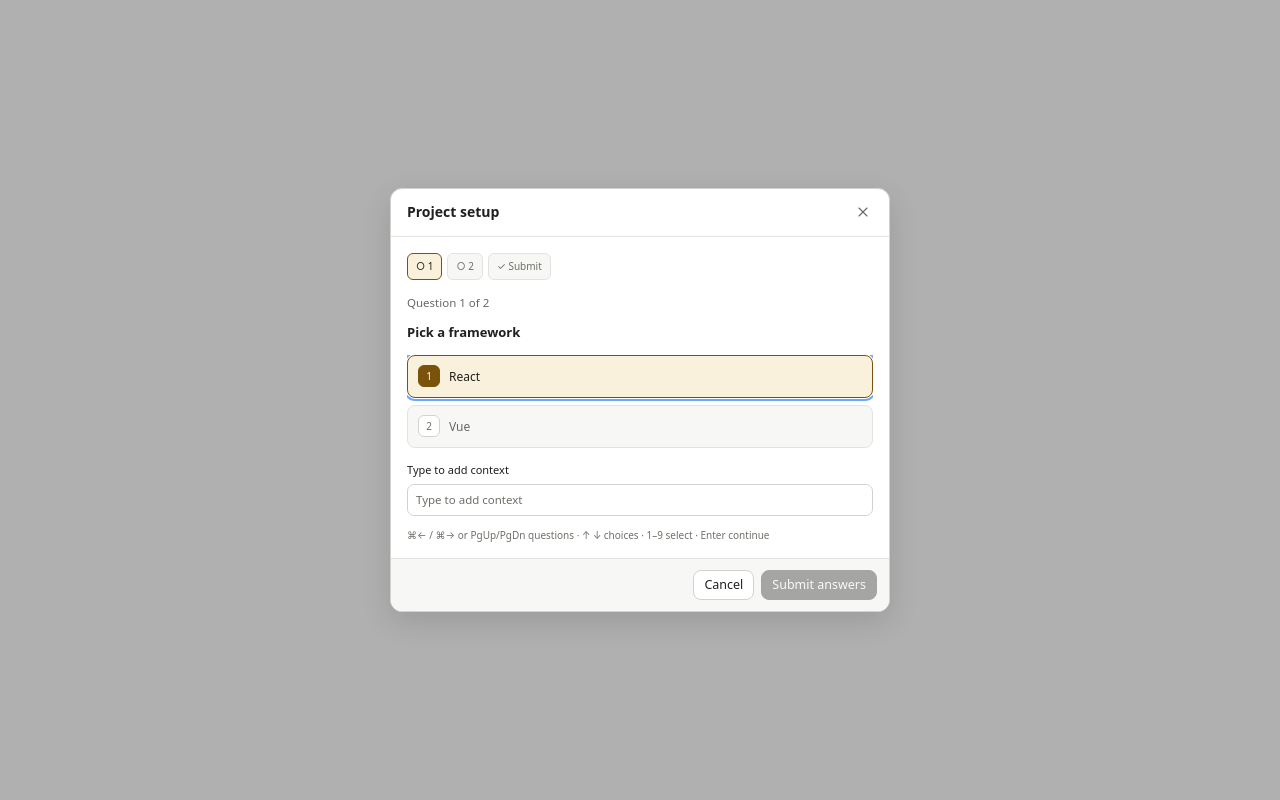
Scenario: extension questionnaire keyboard handling › keeps navigation focused after the final option auto-advances to the submit summary
Click the option "1 React" at (465, 376), box x1=407 y1=355 x2=873 y2=398
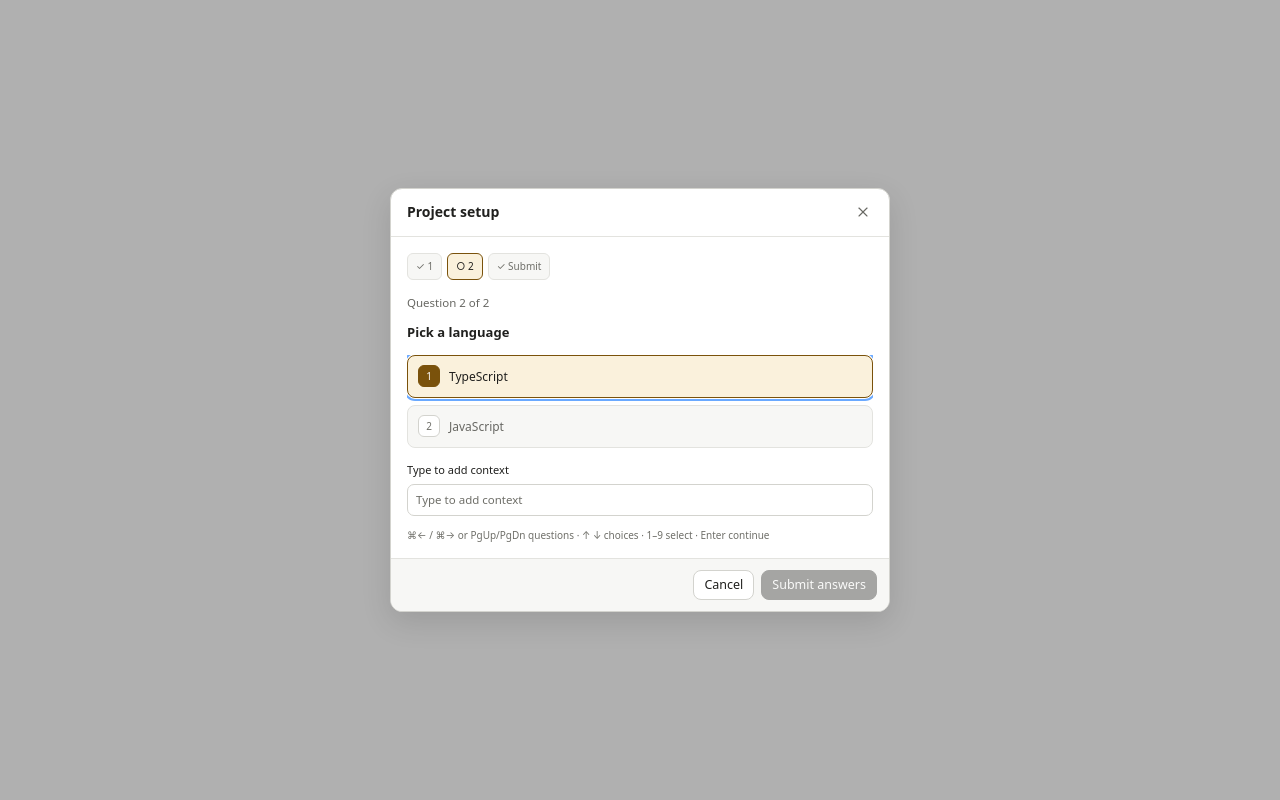
Now the heading "Pick a language" is shown, box x1=407 y1=323 x2=509 y2=341
Click the option "1 TypeScript" at (478, 376), box x1=407 y1=355 x2=873 y2=398
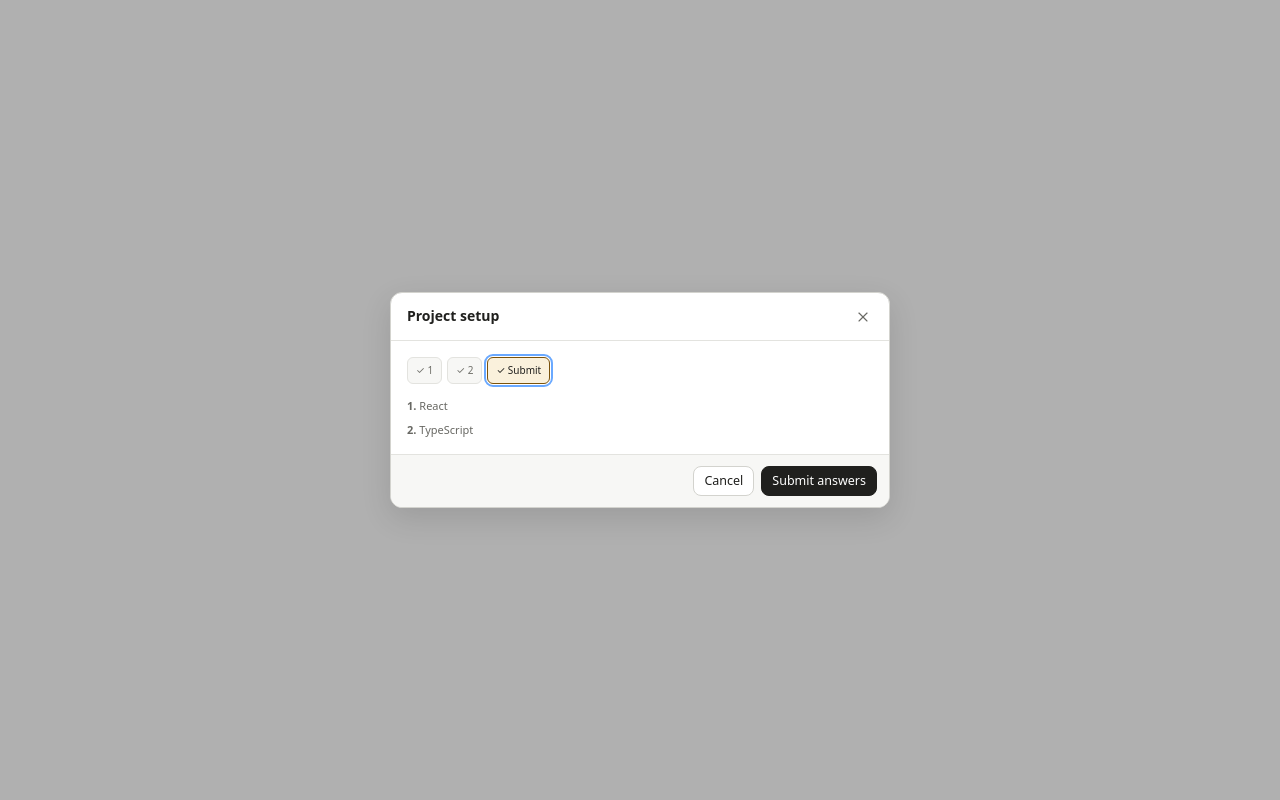
Now the button "✓ Submit" is marked as current
Press ArrowLeft in the button "✓ Submit", box x1=487 y1=357 x2=550 y2=384
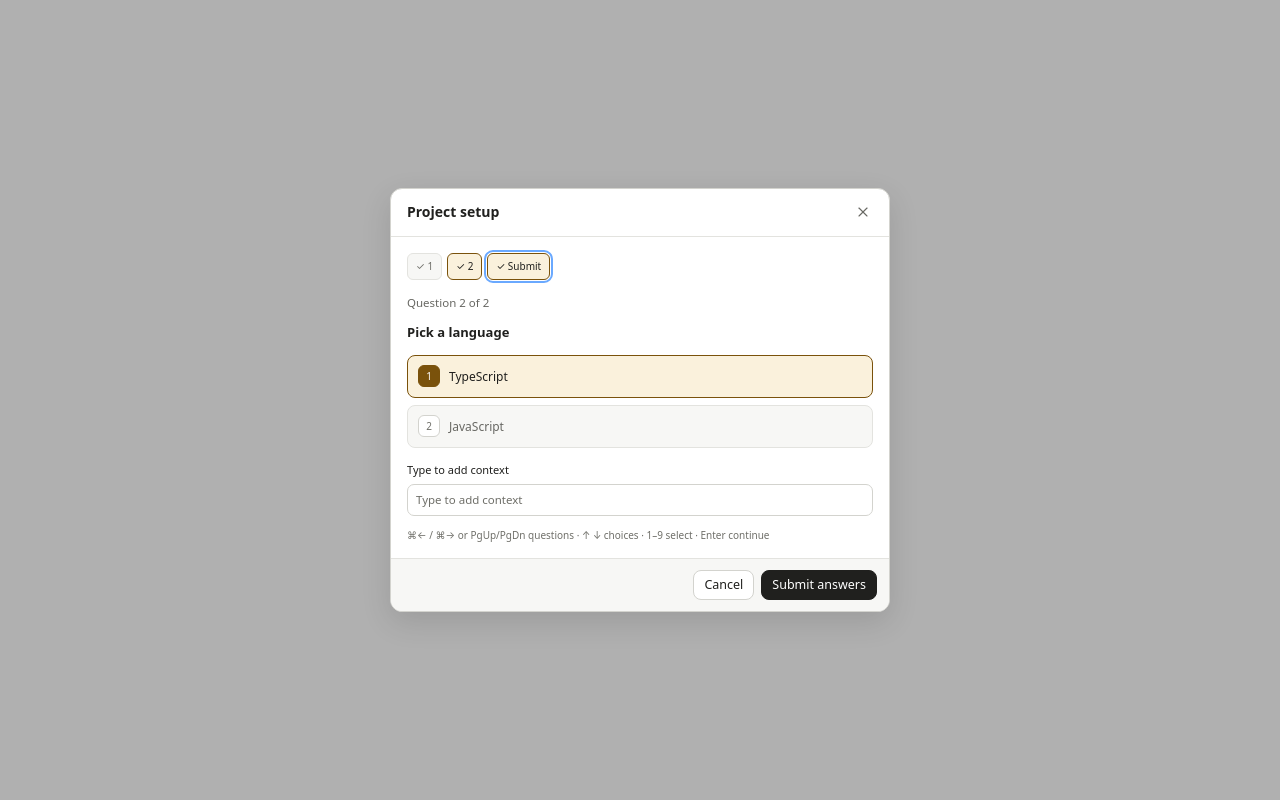
Now the heading "Pick a language" is shown, box x1=407 y1=323 x2=509 y2=341
Click the button "✓ Submit" at (519, 266), box x1=487 y1=253 x2=550 y2=280
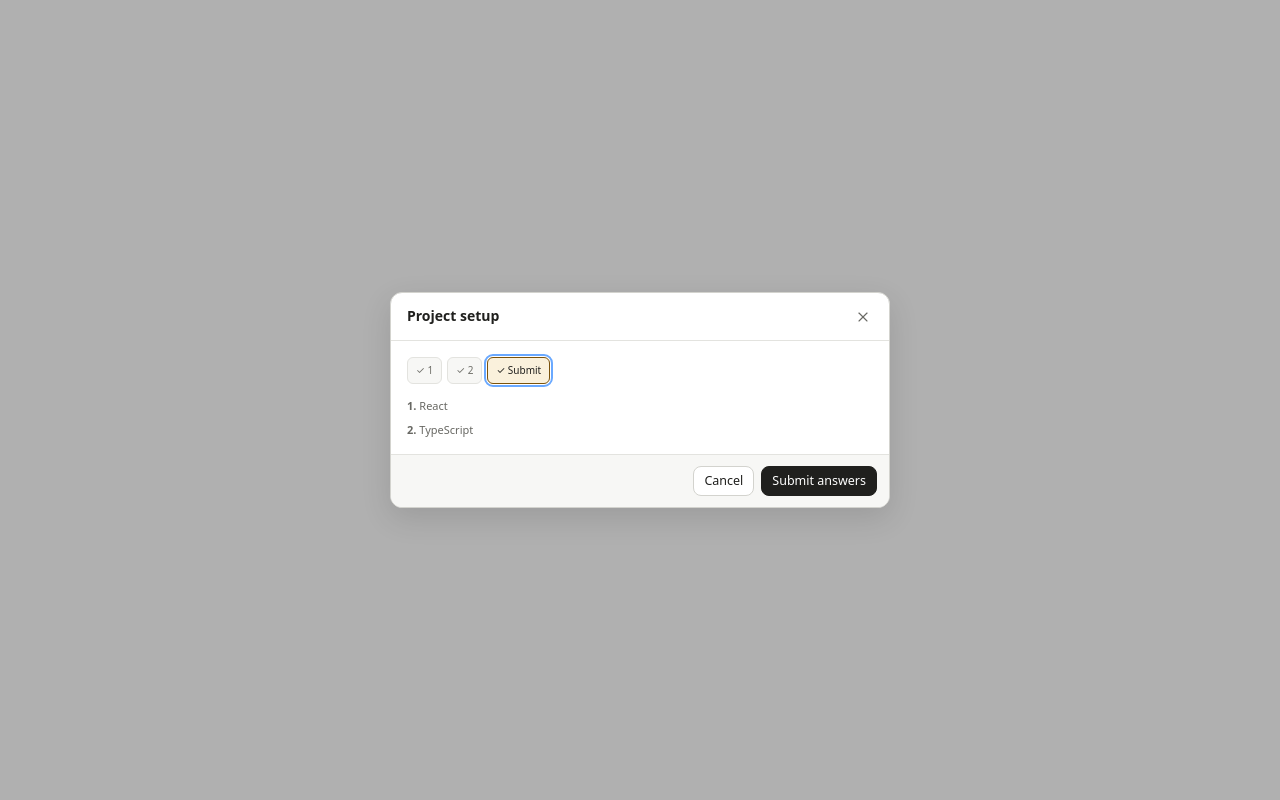
Press PageUp in the button "✓ Submit", box x1=487 y1=357 x2=550 y2=384
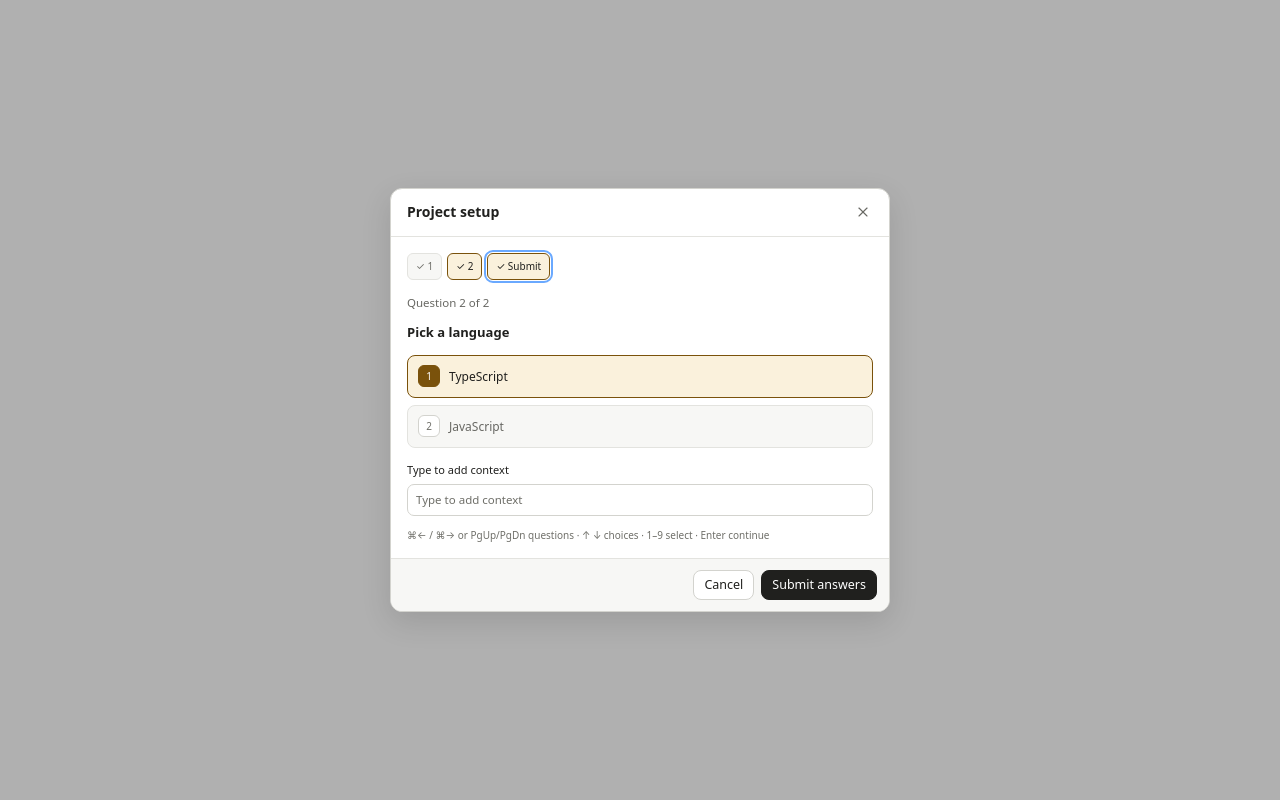
Now the heading "Pick a language" is shown, box x1=407 y1=323 x2=509 y2=341
